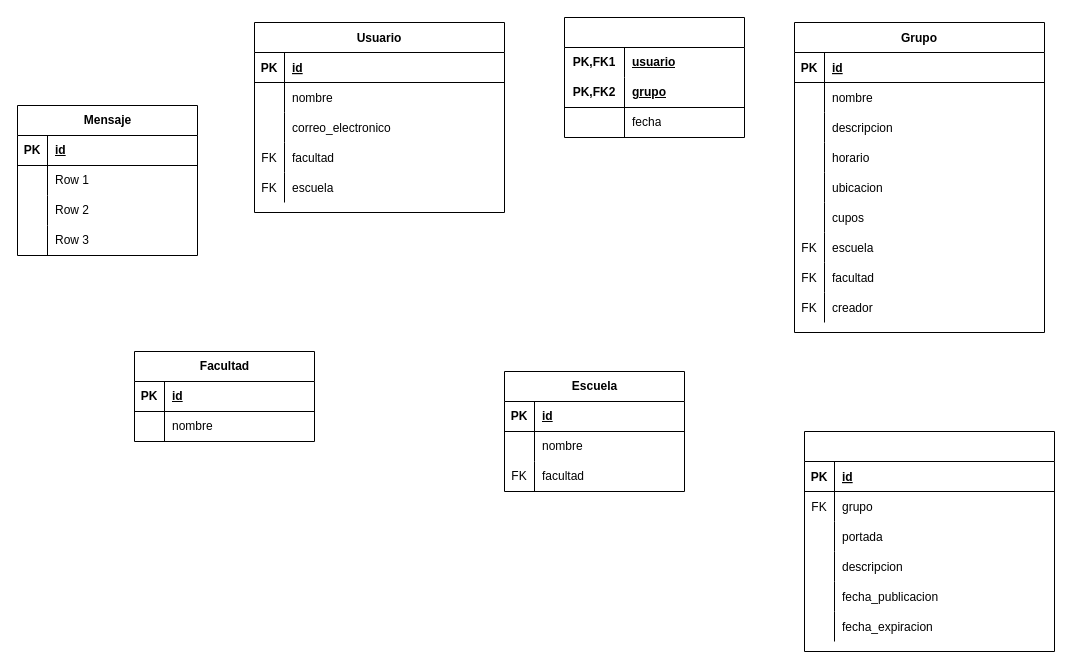
Image size: 1072x669. Some labels were removed from this diagram. The box of each missing label's shape, as (x1, y1, x2, y2) in pixels:
Aviso: (804, 430, 1054, 652)
Inscripcion: (564, 16, 744, 138)
